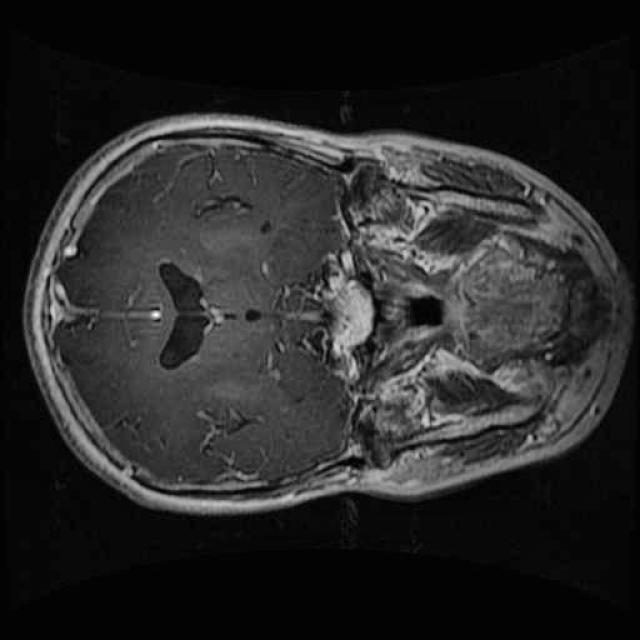Non-Tumor: (182, 184, 272, 254)
